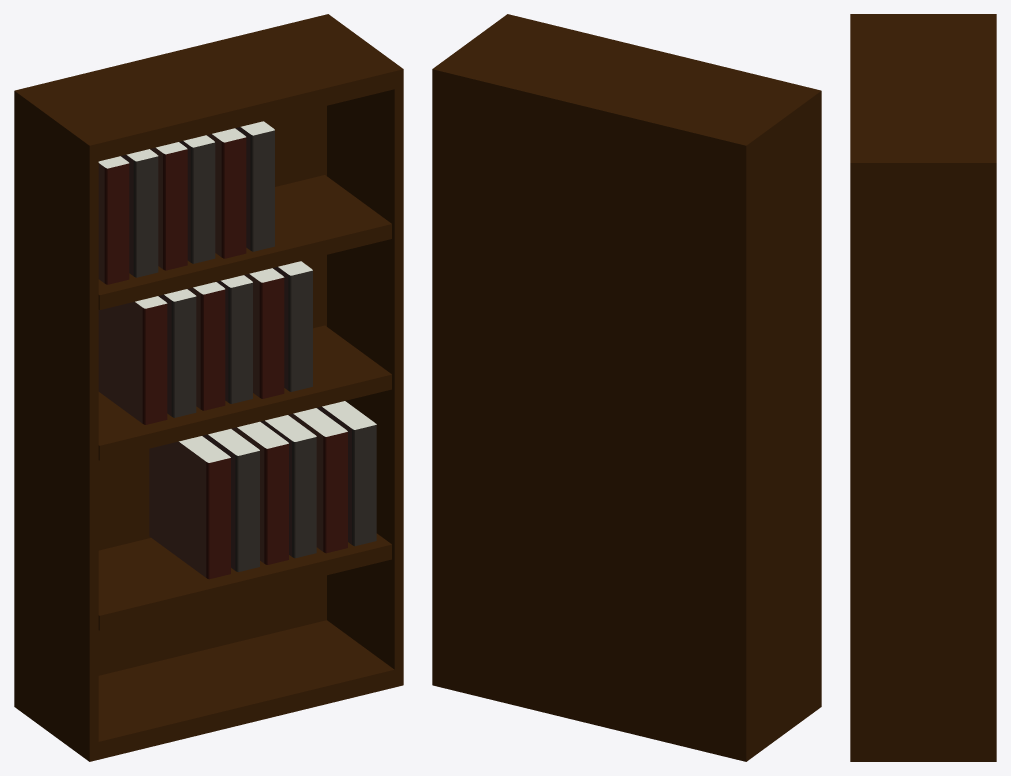
Rendered from Kitaplk.fbx.
3 views of the same model, side by side, from view 1: azimuth 30°, elevation 25°; view 2: azimuth 150°, elevation 25°; view 3: azimuth 270°, elevation 25° (orthographic). The views are drawn at different scales.
Parts seen in each view (by area): view 1: Kitaplık; view 2: Kitaplık; view 3: Kitaplık.
Part boxes in pixels (x1,y1,x2,y2): Kitaplık: (14,14,403,761); Kitaplık: (432,14,821,761); Kitaplık: (850,14,996,761).
Bounding box in the file's own units: 155 × 291 × 64.56.
